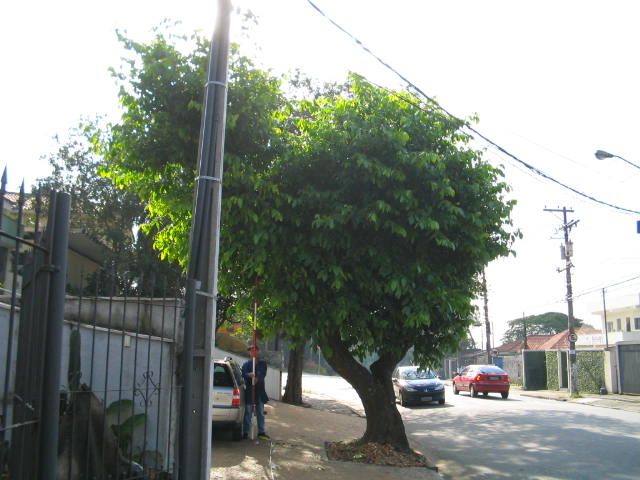crown: (92, 14, 525, 372)
stem: (341, 372, 421, 453)
stick: (244, 277, 267, 439)
tree: (89, 14, 528, 454)
